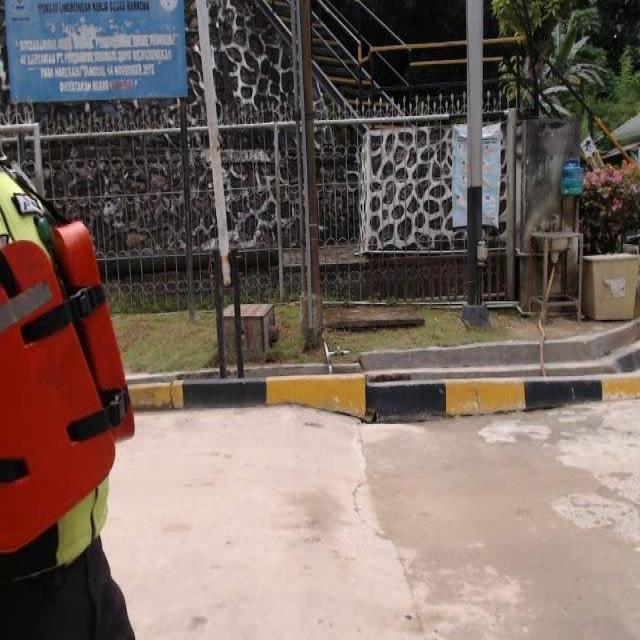Vest: (0, 177, 139, 571)
